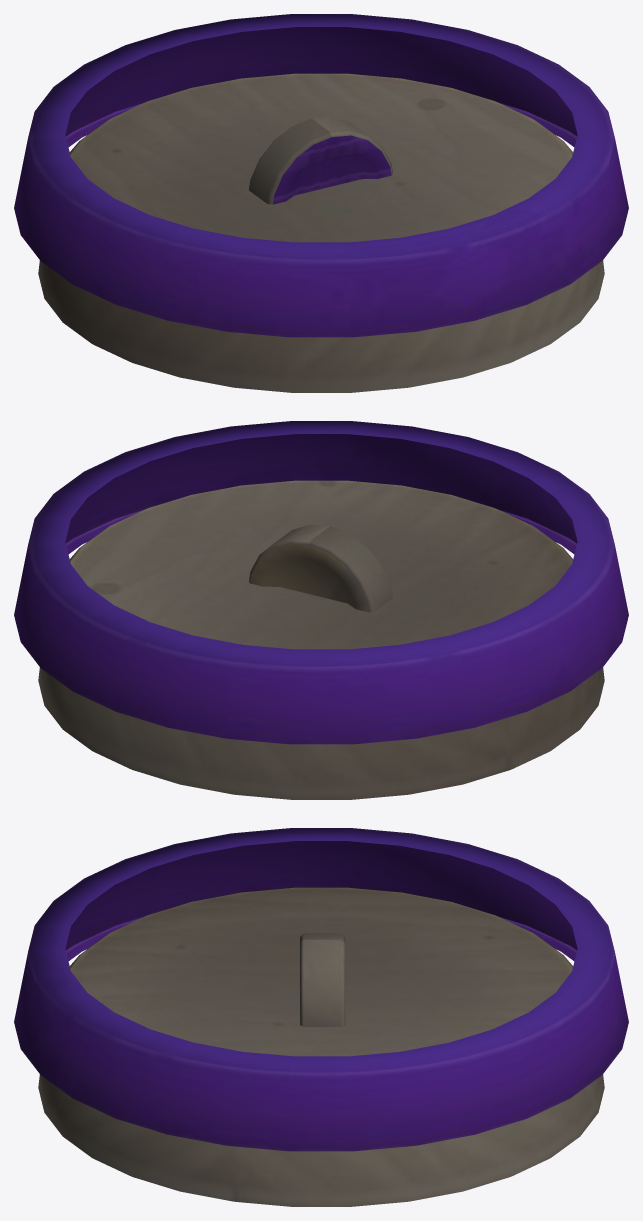
The model's file is undead.glb.
The picture shows the model from 3 angles, top to bottom: view 1: azimuth 30°, elevation 25°; view 2: azimuth 150°, elevation 25°; view 3: azimuth 270°, elevation 25°; orthographic projection.
Visible parts, largest first — view 1: Pedestal_Undead; view 2: Pedestal_Undead; view 3: Pedestal_Undead.
Part boxes in pixels (x1,y1,x2,y2): Pedestal_Undead: (14, 14, 628, 392); Pedestal_Undead: (14, 421, 628, 799); Pedestal_Undead: (14, 828, 628, 1206).
Bounding box in the file's own units: 2.83 × 0.7566 × 2.85.
1 material, 1 textured.
